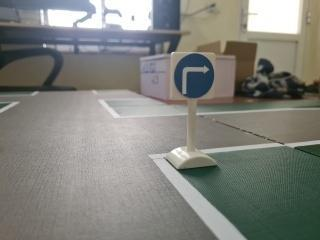right: (169, 45, 215, 102)
